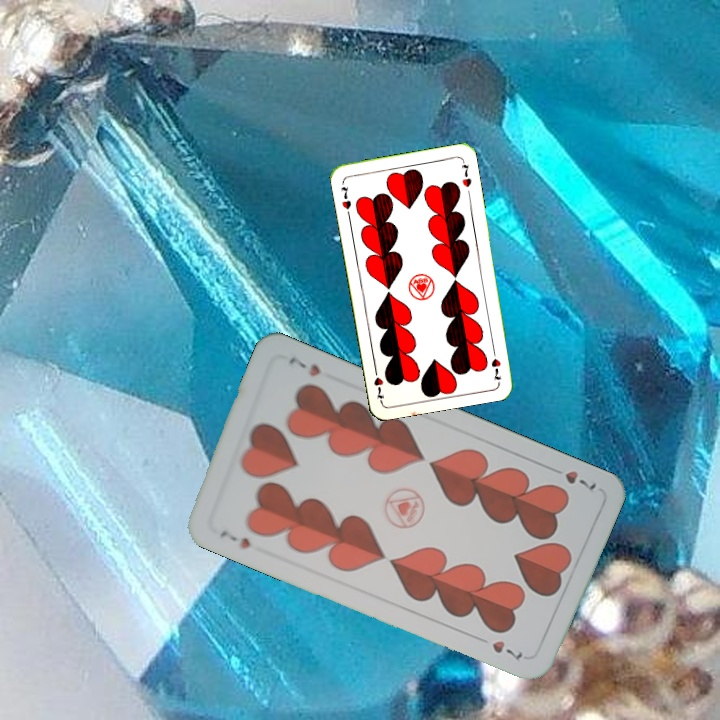H7: (545, 462, 600, 493), (216, 525, 254, 552), (487, 344, 504, 383), (337, 182, 354, 212)
